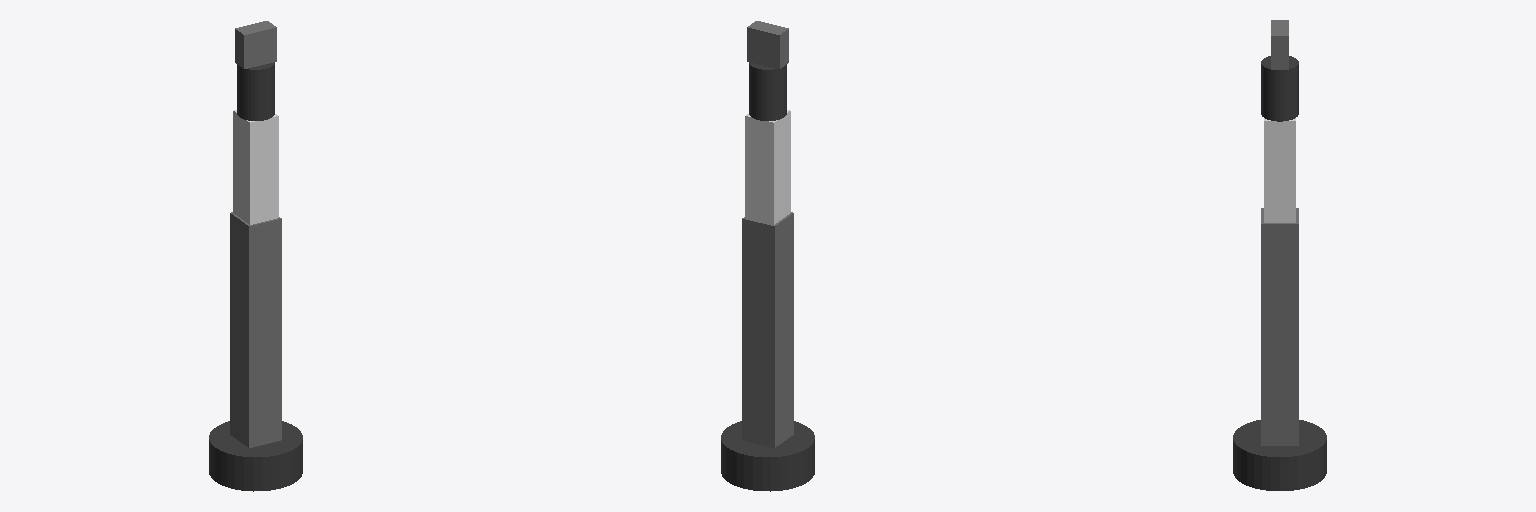
URDF robot description (5dof_arm):
<?xml version="1.0"?>
<!--
  5DOF Robotic Arm - URDF Description

  Joint layout (all revolute):
    base_link  =[base_rotation]=  link1
    link1      =[shoulder]=====  link2
    link2      =[elbow]========  link3
    link3      =[wrist_pitch]==  link4
    link4      =[wrist_roll]===  link5
    link5      =[ee_fixed]====  end_effector
-->
<robot name="5dof_arm">

  <!-- ===== MATERIALS ===== -->
  <material name="grey">
    <color rgba="0.5 0.5 0.5 1.0"/>
  </material>
  <material name="dark_grey">
    <color rgba="0.3 0.3 0.3 1.0"/>
  </material>
  <material name="white">
    <color rgba="0.9 0.9 0.9 1.0"/>
  </material>

  <!-- ===== LINKS ===== -->

  <!-- Base link (fixed to world/table) -->
  <link name="base_link">
    <visual>
      <geometry>
        <cylinder radius="0.05" length="0.04"/>
      </geometry>
      <origin xyz="0 0 0.02" rpy="0 0 0"/>
      <material name="dark_grey"/>
    </visual>
    <collision>
      <geometry>
        <cylinder radius="0.05" length="0.04"/>
      </geometry>
      <origin xyz="0 0 0.02" rpy="0 0 0"/>
    </collision>
    <inertial>
      <mass value="0.5"/>
      <origin xyz="0 0 0.02" rpy="0 0 0"/>
      <inertia ixx="0.0006" ixy="0" ixz="0"
               iyy="0.0006" iyz="0"
               izz="0.0009"/>
    </inertial>
  </link>

  <!-- Link 1 – lower arm / first shoulder segment -->
  <link name="link1">
    <visual>
      <geometry>
        <box size="0.04 0.04 0.12"/>
      </geometry>
      <origin xyz="0 0 0.06" rpy="0 0 0"/>
      <material name="grey"/>
    </visual>
    <collision>
      <geometry>
        <box size="0.04 0.04 0.12"/>
      </geometry>
      <origin xyz="0 0 0.06" rpy="0 0 0"/>
    </collision>
    <inertial>
      <mass value="0.3"/>
      <origin xyz="0 0 0.06" rpy="0 0 0"/>
      <inertia ixx="0.0004" ixy="0" ixz="0"
               iyy="0.0004" iyz="0"
               izz="0.00008"/>
    </inertial>
  </link>

  <!-- Link 2 – upper arm -->
  <link name="link2">
    <visual>
      <geometry>
        <box size="0.04 0.04 0.14"/>
      </geometry>
      <origin xyz="0 0 0.07" rpy="0 0 0"/>
      <material name="grey"/>
    </visual>
    <collision>
      <geometry>
        <box size="0.04 0.04 0.14"/>
      </geometry>
      <origin xyz="0 0 0.07" rpy="0 0 0"/>
    </collision>
    <inertial>
      <mass value="0.25"/>
      <origin xyz="0 0 0.07" rpy="0 0 0"/>
      <inertia ixx="0.0005" ixy="0" ixz="0"
               iyy="0.0005" iyz="0"
               izz="0.00006"/>
    </inertial>
  </link>

  <!-- Link 3 – forearm -->
  <link name="link3">
    <visual>
      <geometry>
        <box size="0.035 0.035 0.12"/>
      </geometry>
      <origin xyz="0 0 0.06" rpy="0 0 0"/>
      <material name="white"/>
    </visual>
    <collision>
      <geometry>
        <box size="0.035 0.035 0.12"/>
      </geometry>
      <origin xyz="0 0 0.06" rpy="0 0 0"/>
    </collision>
    <inertial>
      <mass value="0.2"/>
      <origin xyz="0 0 0.06" rpy="0 0 0"/>
      <inertia ixx="0.0003" ixy="0" ixz="0"
               iyy="0.0003" iyz="0"
               izz="0.00005"/>
    </inertial>
  </link>

  <!-- Link 4 – wrist -->
  <link name="link4">
    <visual>
      <geometry>
        <cylinder radius="0.02" length="0.06"/>
      </geometry>
      <origin xyz="0 0 0.03" rpy="0 0 0"/>
      <material name="dark_grey"/>
    </visual>
    <collision>
      <geometry>
        <cylinder radius="0.02" length="0.06"/>
      </geometry>
      <origin xyz="0 0 0.03" rpy="0 0 0"/>
    </collision>
    <inertial>
      <mass value="0.1"/>
      <origin xyz="0 0 0.03" rpy="0 0 0"/>
      <inertia ixx="0.00008" ixy="0" ixz="0"
               iyy="0.00008" iyz="0"
               izz="0.00002"/>
    </inertial>
  </link>

  <!-- Link 5 – end-effector mount -->
  <link name="link5">
    <visual>
      <geometry>
        <box size="0.04 0.02 0.04"/>
      </geometry>
      <origin xyz="0 0 0.02" rpy="0 0 0"/>
      <material name="grey"/>
    </visual>
    <collision>
      <geometry>
        <box size="0.04 0.02 0.04"/>
      </geometry>
      <origin xyz="0 0 0.02" rpy="0 0 0"/>
    </collision>
    <inertial>
      <mass value="0.08"/>
      <origin xyz="0 0 0.02" rpy="0 0 0"/>
      <inertia ixx="0.00003" ixy="0" ixz="0"
               iyy="0.00003" iyz="0"
               izz="0.00002"/>
    </inertial>
  </link>

  <!-- End effector (TCP frame – massless reference point) -->
  <link name="end_effector"/>

  <!-- ===== JOINTS ===== -->

  <!-- Joint 1: base rotation (yaw about Z) -->
  <joint name="base_rotation" type="revolute">
    <parent link="base_link"/>
    <child link="link1"/>
    <origin xyz="0 0 0.04" rpy="0 0 0"/>
    <axis xyz="0 0 1"/>
    <limit lower="-3.1416" upper="3.1416" effort="10.0" velocity="1.0"/>
    <dynamics damping="0.5" friction="0.1"/>
  </joint>

  <!-- Joint 2: shoulder pitch (rotation about Y) -->
  <joint name="shoulder" type="revolute">
    <parent link="link1"/>
    <child link="link2"/>
    <origin xyz="0 0 0.12" rpy="0 0 0"/>
    <axis xyz="0 1 0"/>
    <limit lower="-1.5708" upper="1.5708" effort="10.0" velocity="1.0"/>
    <dynamics damping="0.5" friction="0.1"/>
  </joint>

  <!-- Joint 3: elbow pitch (rotation about Y) -->
  <joint name="elbow" type="revolute">
    <parent link="link2"/>
    <child link="link3"/>
    <origin xyz="0 0 0.14" rpy="0 0 0"/>
    <axis xyz="0 1 0"/>
    <limit lower="-2.3562" upper="2.3562" effort="8.0" velocity="1.2"/>
    <dynamics damping="0.4" friction="0.1"/>
  </joint>

  <!-- Joint 4: wrist pitch (rotation about Y) -->
  <joint name="wrist_pitch" type="revolute">
    <parent link="link3"/>
    <child link="link4"/>
    <origin xyz="0 0 0.12" rpy="0 0 0"/>
    <axis xyz="0 1 0"/>
    <limit lower="-1.5708" upper="1.5708" effort="5.0" velocity="1.5"/>
    <dynamics damping="0.3" friction="0.05"/>
  </joint>

  <!-- Joint 5: wrist roll (rotation about X) -->
  <joint name="wrist_roll" type="revolute">
    <parent link="link4"/>
    <child link="link5"/>
    <origin xyz="0 0 0.06" rpy="0 0 0"/>
    <axis xyz="1 0 0"/>
    <limit lower="-3.1416" upper="3.1416" effort="5.0" velocity="1.5"/>
    <dynamics damping="0.3" friction="0.05"/>
  </joint>

  <!-- Fixed joint: end-effector TCP frame -->
  <joint name="ee_fixed" type="fixed">
    <parent link="link5"/>
    <child link="end_effector"/>
    <origin xyz="0 0 0.04" rpy="0 0 0"/>
  </joint>

</robot>

--- Render facts (derived) ---
The picture shows the robot from 3 angles, left to right: view 1: azimuth 30°, elevation 25°; view 2: azimuth 150°, elevation 25°; view 3: azimuth 270°, elevation 25°; orthographic projection.
Robot: 5dof_arm — 7 links, 6 joints (5 revolute, 1 fixed); root link base_link; default pose: all joints at 0.
Links seen in each view (by area): view 1: link2, link1, base_link, link3, link4, link5; view 2: link2, link1, base_link, link3, link4, link5; view 3: base_link, link2, link1, link3, link4, link5.
Boxes of the visible links, bbox=[...] form: link2: bbox=[230, 212, 281, 345]; link1: bbox=[230, 332, 281, 447]; base_link: bbox=[209, 421, 302, 491]; link3: bbox=[233, 110, 278, 224]; link4: bbox=[237, 62, 274, 120]; link5: bbox=[235, 21, 276, 68]; link2: bbox=[742, 212, 793, 345]; link1: bbox=[742, 332, 793, 447]; base_link: bbox=[721, 421, 814, 491]; link3: bbox=[745, 110, 790, 224]; link4: bbox=[749, 62, 786, 120]; link5: bbox=[747, 21, 788, 68]; base_link: bbox=[1233, 420, 1326, 490]; link2: bbox=[1261, 208, 1298, 342]; link1: bbox=[1261, 343, 1298, 445]; link3: bbox=[1264, 118, 1295, 222]; link4: bbox=[1261, 56, 1298, 121]; link5: bbox=[1271, 20, 1288, 69].
Size in the robot's own frame: 0.1 by 0.1 by 0.52 metres.
Geometry: primitives only (box / cylinder / sphere), no mesh files.
